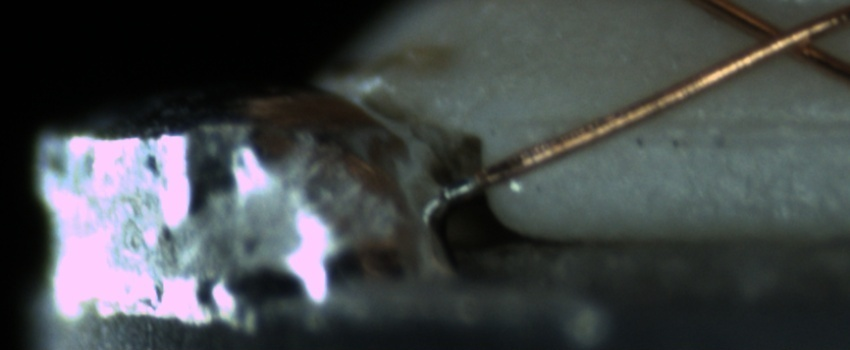CL: (731, 4, 842, 69)
DL: (529, 90, 850, 158)
TS: (442, 172, 481, 199)
